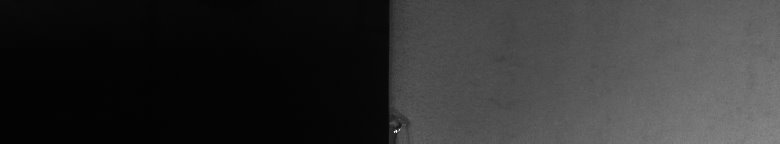hb: (400, 108, 413, 136)
